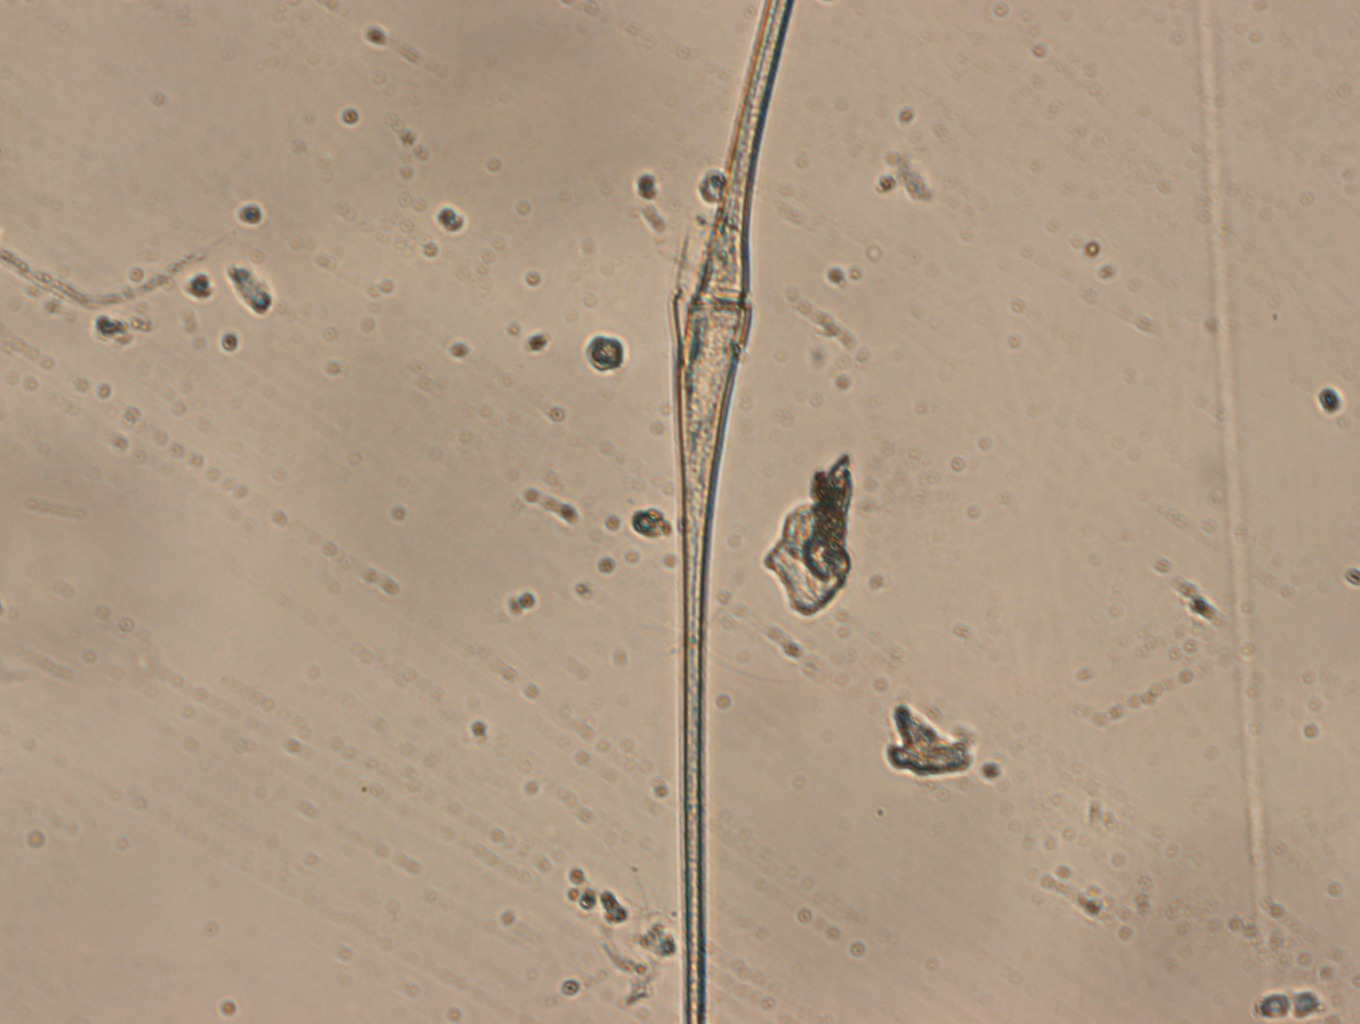ceratium fusus: (672, 1, 796, 1021)
